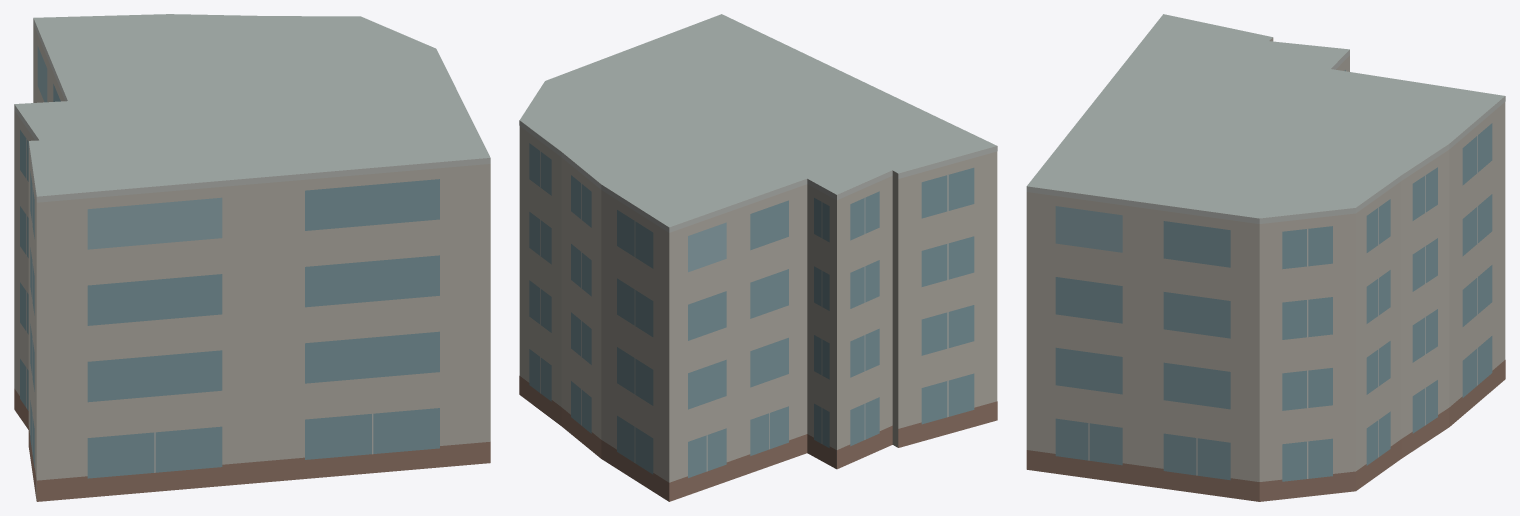
The model's file is survey-upis-33024314.glb.
3 renders of one model, left to right at view 1: azimuth 30°, elevation 25°; view 2: azimuth 150°, elevation 25°; view 3: azimuth 270°, elevation 25°, orthographic. The views are drawn at different scales.
Visible parts, largest first — view 1: survey-upis-33024314.tmp; view 2: survey-upis-33024314.tmp; view 3: survey-upis-33024314.tmp.
Part boxes in pixels (x1=…): survey-upis-33024314.tmp: x1=14, y1=14, x2=490, y2=501; survey-upis-33024314.tmp: x1=519, y1=14, x2=997, y2=501; survey-upis-33024314.tmp: x1=1026, y1=14, x2=1505, y2=501.
Bounding box in the file's own units: 18.97 × 12.25 × 18.77.
